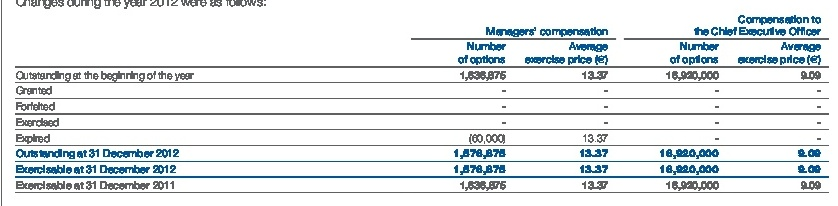table: (0, 0, 838, 206)
